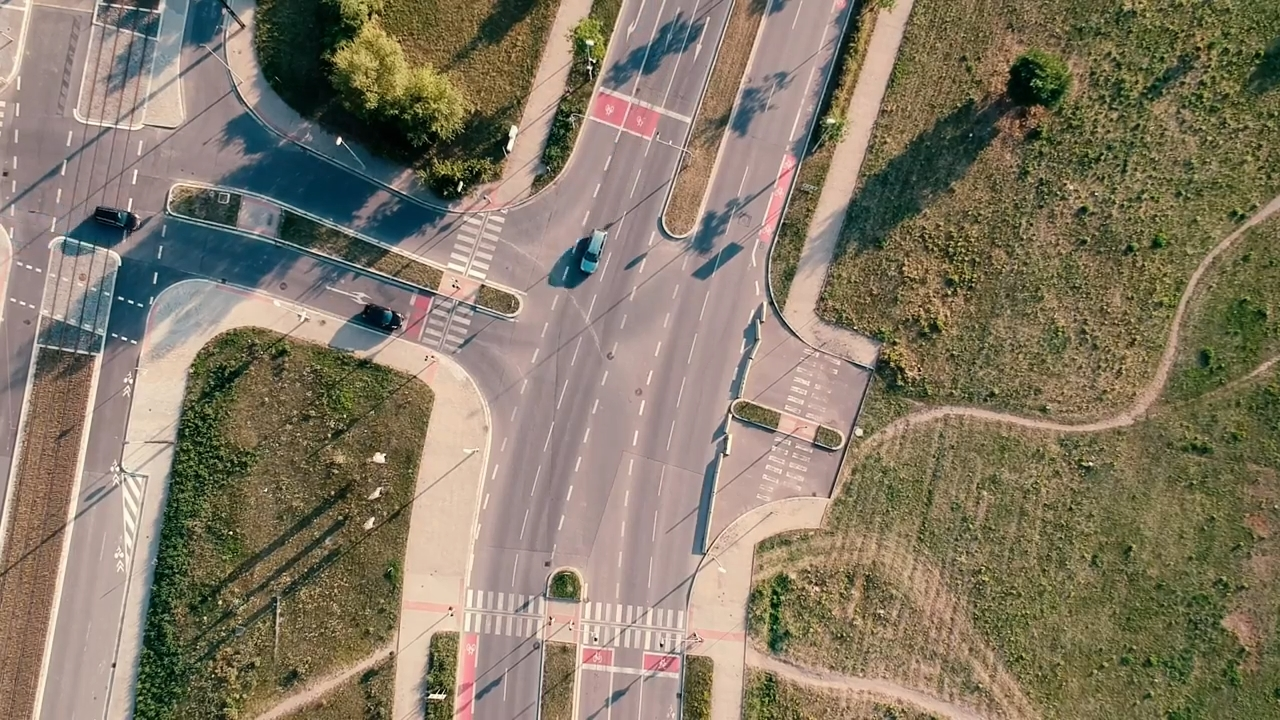car: (363, 302, 407, 334), (579, 227, 607, 277), (94, 203, 141, 231)
